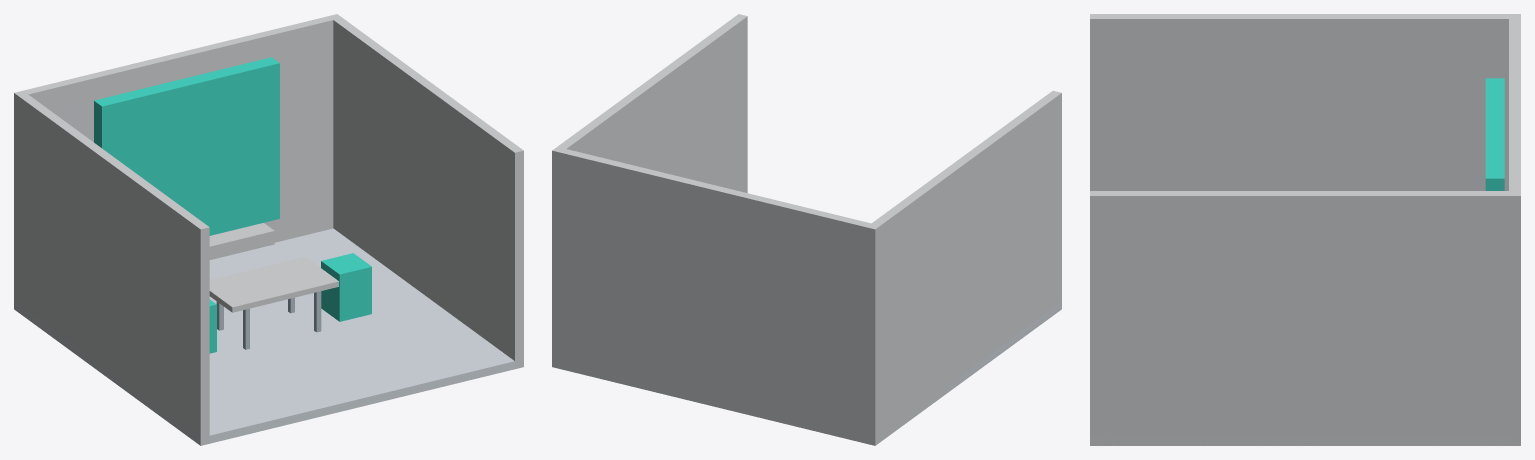
The picture shows the model from 3 angles, left to right: view 1: azimuth 30°, elevation 25°; view 2: azimuth 150°, elevation 25°; view 3: azimuth 270°, elevation 25°; orthographic projection. The views are drawn at different scales.
Parts seen in each view (by area): view 1: Exhibition Booth Concept; view 2: Exhibition Booth Concept; view 3: Exhibition Booth Concept.
Part boxes in pixels (x1,y1,x2,y2): Exhibition Booth Concept: [14, 14, 523, 445]; Exhibition Booth Concept: [552, 14, 1061, 445]; Exhibition Booth Concept: [1090, 14, 1520, 445].
Size of the model in its own units: 5 by 3.2 by 5.
